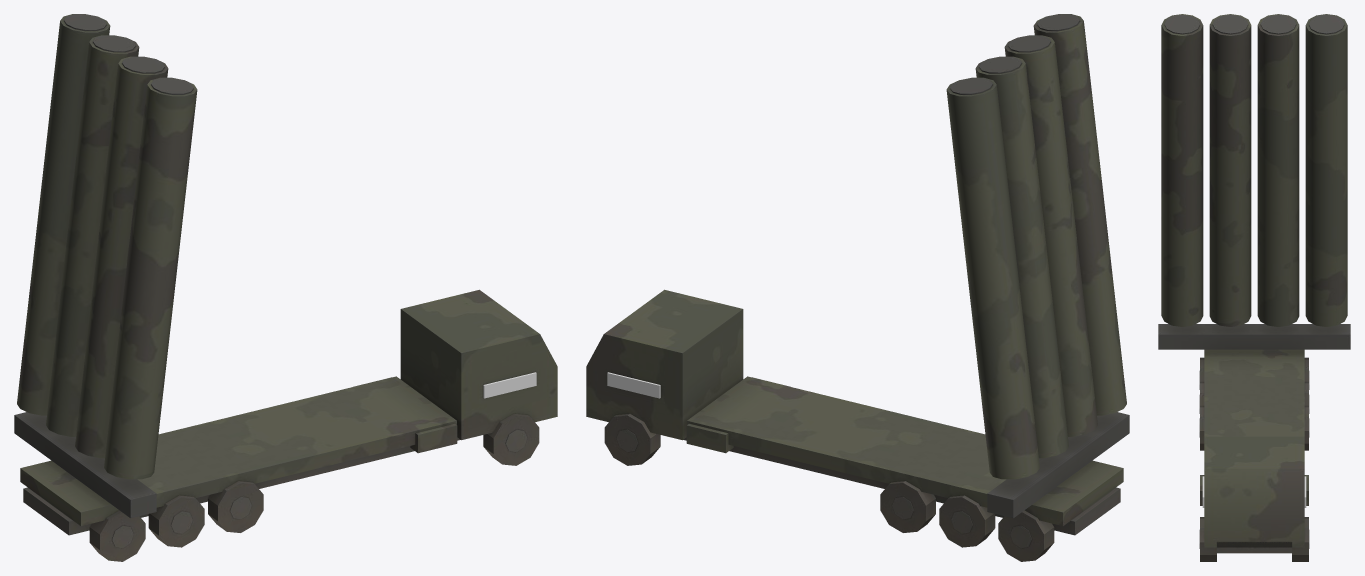
3 renders of one model, left to right at view 1: azimuth 30°, elevation 25°; view 2: azimuth 150°, elevation 25°; view 3: azimuth 270°, elevation 25°, orthographic. The views are drawn at different scales.
Visible parts, largest first — view 1: g_s500_hull; view 2: g_s500_hull; view 3: g_s500_hull.
Boxes of the visible parts, bbox=[...] form: g_s500_hull: bbox=[14, 14, 557, 561]; g_s500_hull: bbox=[586, 14, 1129, 561]; g_s500_hull: bbox=[1158, 14, 1350, 561].
Bounding box in the file's own units: 11 × 10.42 × 4.6.
Materials: 2 (1 with a texture image).
